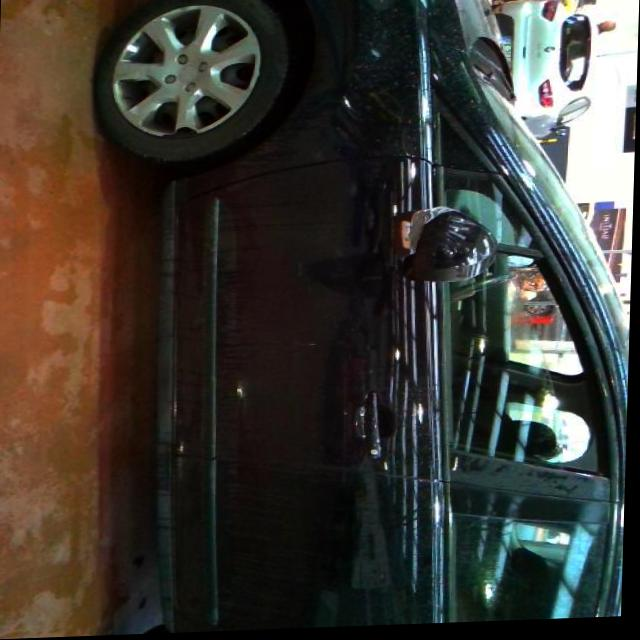porte-avant: (156, 150, 636, 526)
